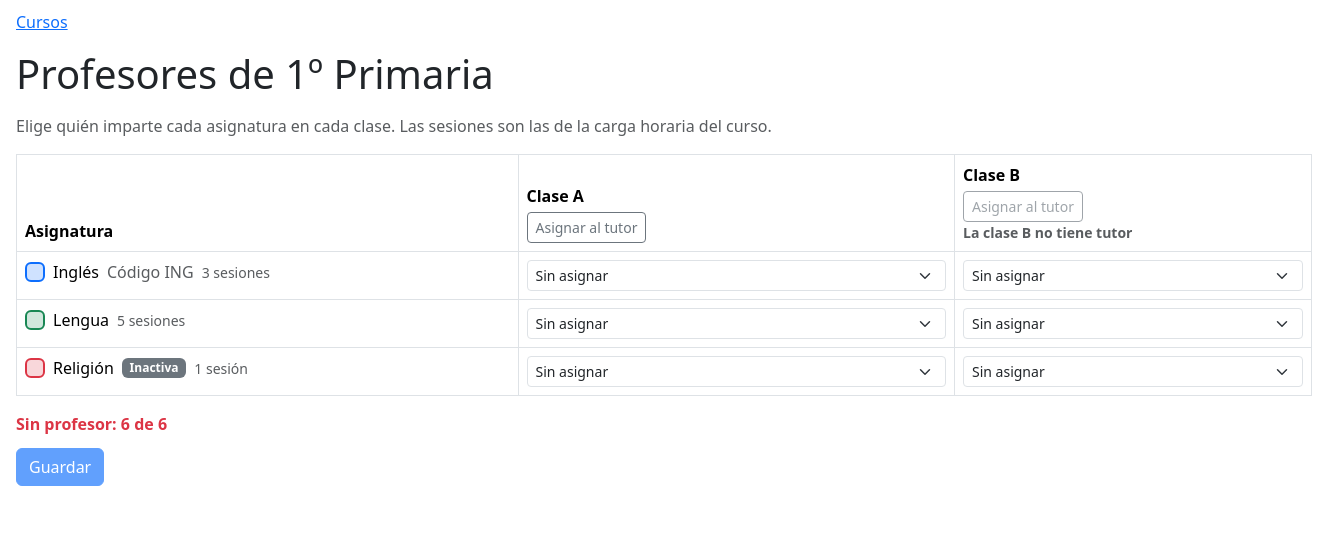
CourseAssignmentsPage › the counts › recalculates them while editing: the sessions of each professor in the course
Expected: the heading "Profesores de 1º Primaria" is shown, [16, 46, 494, 101]
Expected: the table is shown, [16, 154, 1312, 396]
Select "García, Ana · tutor/a de A" in the dropdown named "Profesor de Lengua en A" at (736, 324), box [526, 308, 946, 339]
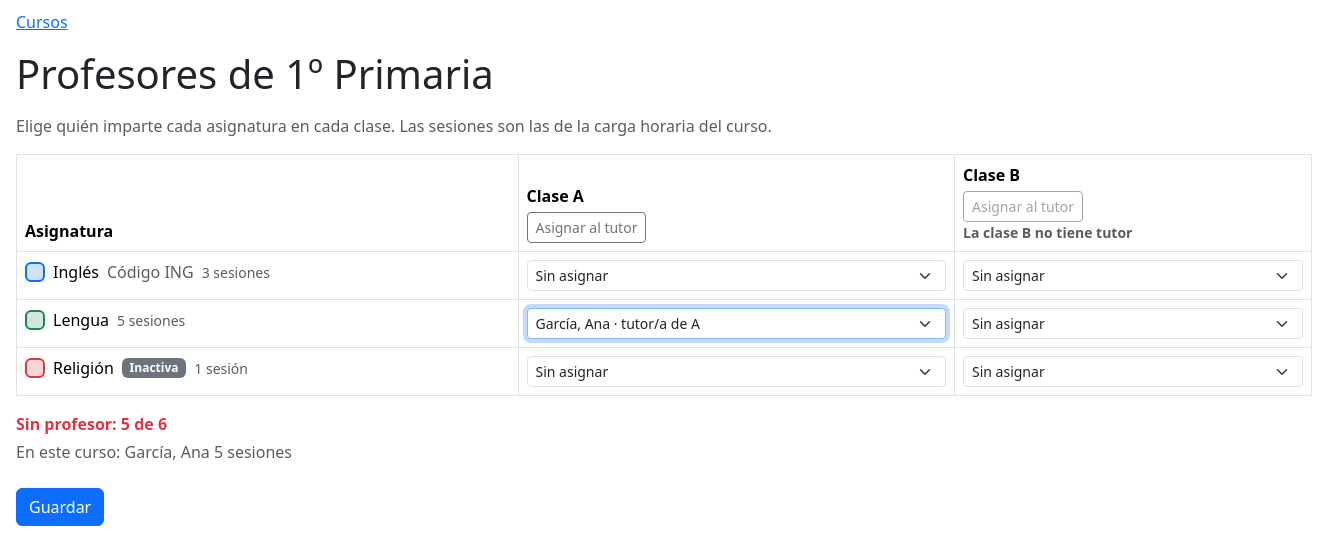
Select "García, Ana · tutor/a de A" in the dropdown named "Profesor de Inglés en A" at (736, 276), box [526, 260, 946, 291]
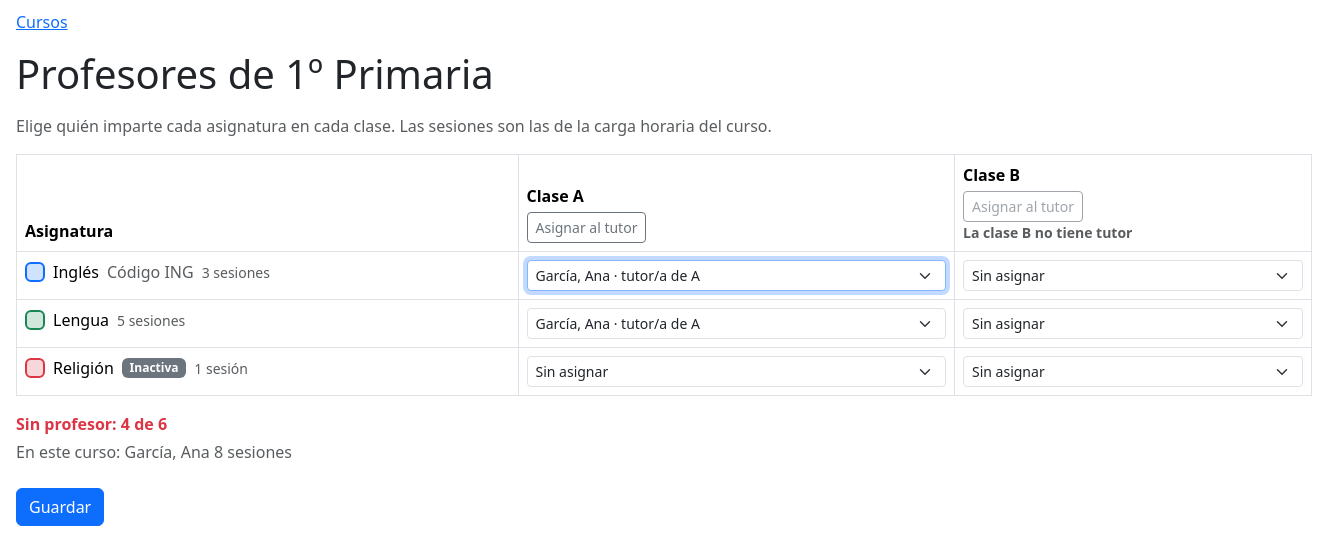
Select "Ruiz, Eva" in the dropdown named "Profesor de Inglés en B" at (1133, 276), box [963, 260, 1303, 291]
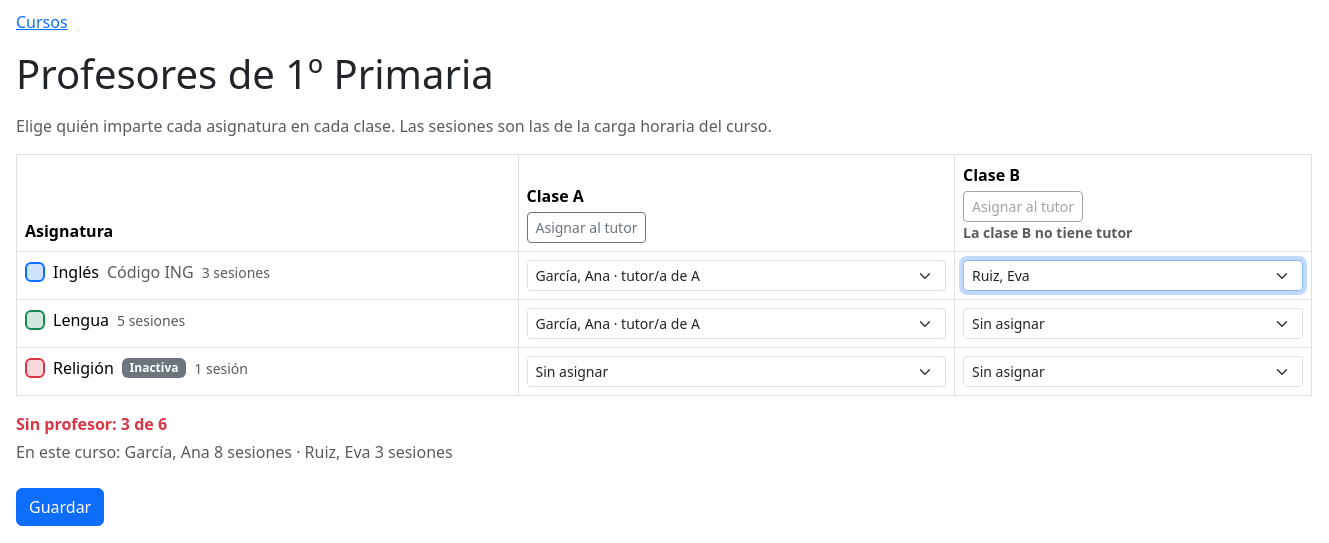
Expected: the text "Sin profesor: 3 de 6" is shown, [16, 413, 167, 435]
Expected: the text "En este curso: García, Ana 8 sesiones · Ruiz, Eva 3 sesiones" is shown, [16, 441, 453, 463]
